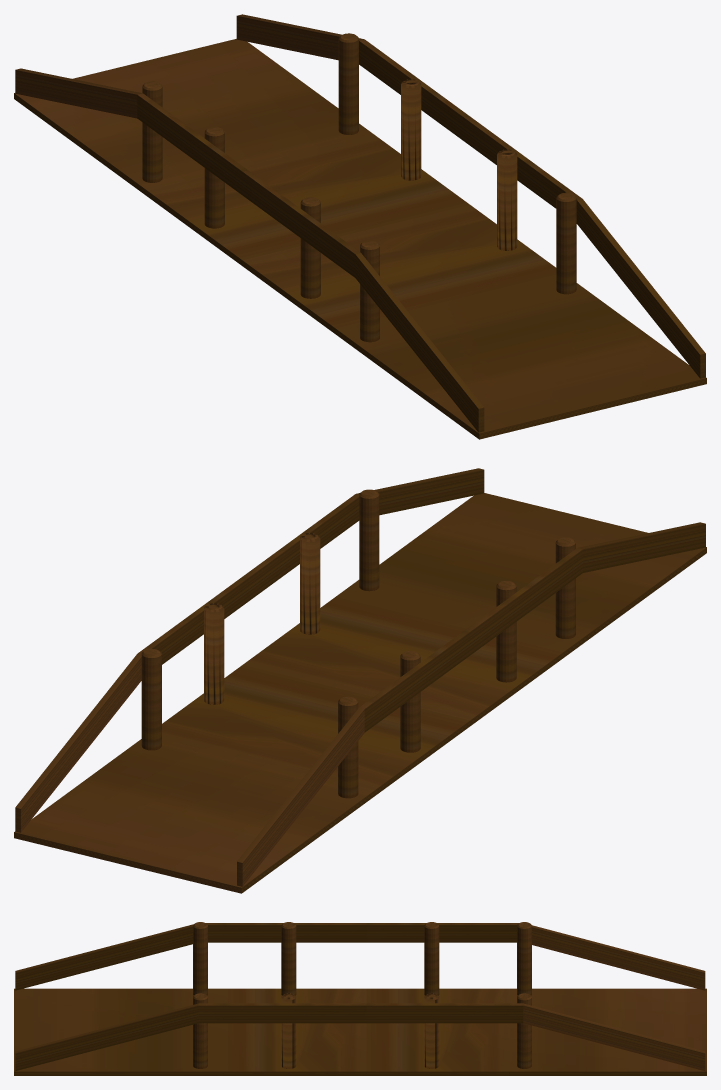
Rendered from Bridge_All.FBX.
The picture shows the model from 3 angles, top to bottom: view 1: azimuth 30°, elevation 25°; view 2: azimuth 150°, elevation 25°; view 3: azimuth 270°, elevation 25°; orthographic projection. The views are drawn at different scales.
Parts seen in each view (by area): view 1: polySurface11; view 2: polySurface11; view 3: polySurface11.
Boxes of the visible parts, box(x1,y1,x2,y2) form: polySurface11: box(14, 14, 706, 439); polySurface11: box(14, 468, 706, 893); polySurface11: box(14, 922, 706, 1075).
Size of the model in its own units: 5 by 2.1 by 17.7.
1 material, 1 textured.
